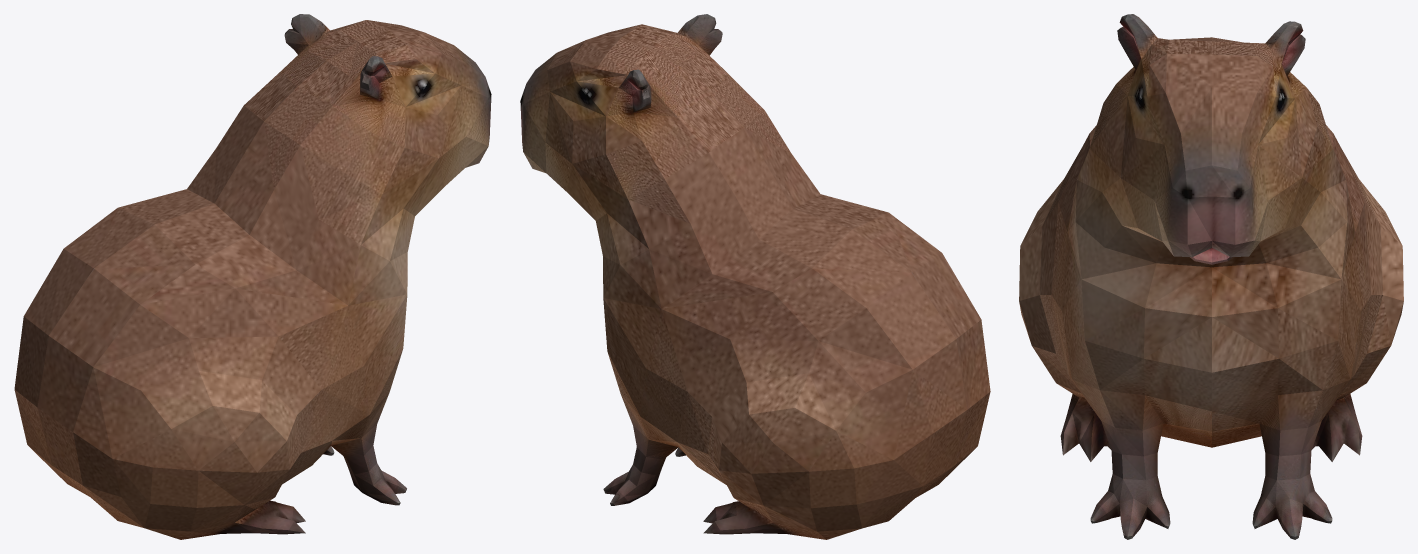
File: capybara.glb
The picture shows the model from 3 angles, left to right: view 1: azimuth 30°, elevation 25°; view 2: azimuth 150°, elevation 25°; view 3: azimuth 270°, elevation 25°; orthographic projection. The views are drawn at different scales.
Visible parts, largest first — view 1: tripo_node_3436cca3-9363-41b0-b116-57bb67248aad; view 2: tripo_node_3436cca3-9363-41b0-b116-57bb67248aad; view 3: tripo_node_3436cca3-9363-41b0-b116-57bb67248aad.
Boxes of the visible parts, left/top/right/bottom form: tripo_node_3436cca3-9363-41b0-b116-57bb67248aad: left=14, top=14, right=491, bottom=539; tripo_node_3436cca3-9363-41b0-b116-57bb67248aad: left=520, top=14, right=990, bottom=539; tripo_node_3436cca3-9363-41b0-b116-57bb67248aad: left=1019, top=14, right=1403, bottom=539.
Size of the model in its own units: 0.998 by 0.9473 by 0.6504.
1 material, 1 textured.
